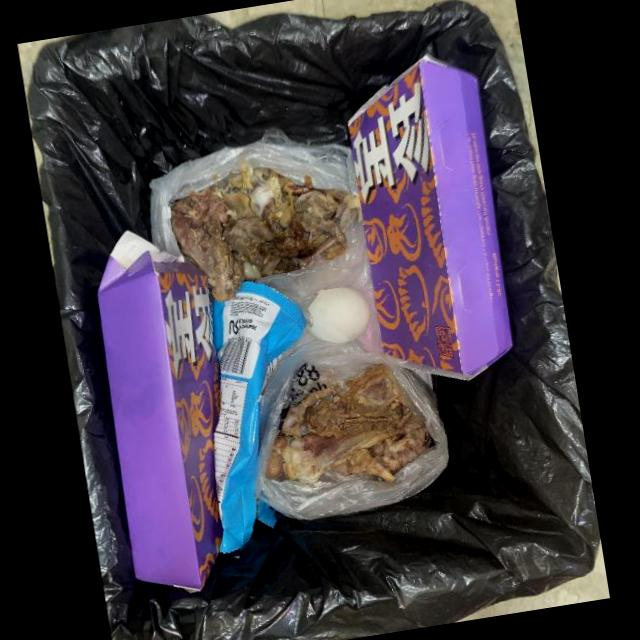bao_bi_thuc_pham: (213, 281, 307, 554)
carton: (349, 57, 512, 380), (97, 233, 221, 594)
thuc_an_thua: (170, 166, 358, 302), (266, 365, 431, 483)
tui_ni_long: (149, 127, 449, 520)
vo_trung: (307, 287, 371, 344)
